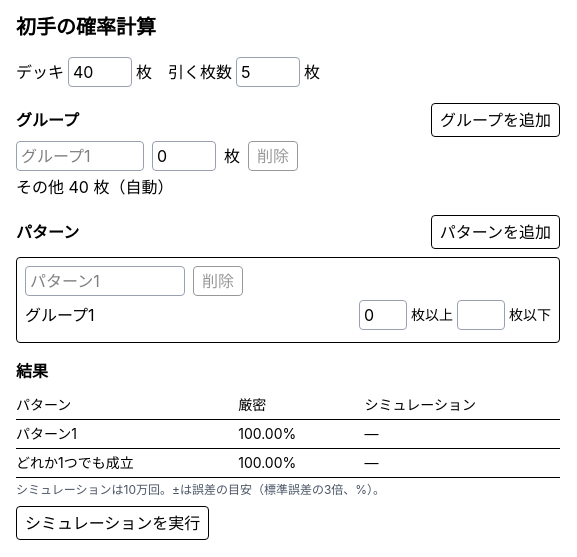
Scenario: 最大を入力してから空にすると、誤りが消えて上限なしに戻る（input イベント）
Type "-1" into the number field named "パターン1：グループ1の最大".
click(481, 315); type("-1")  # box [457, 300, 505, 330]
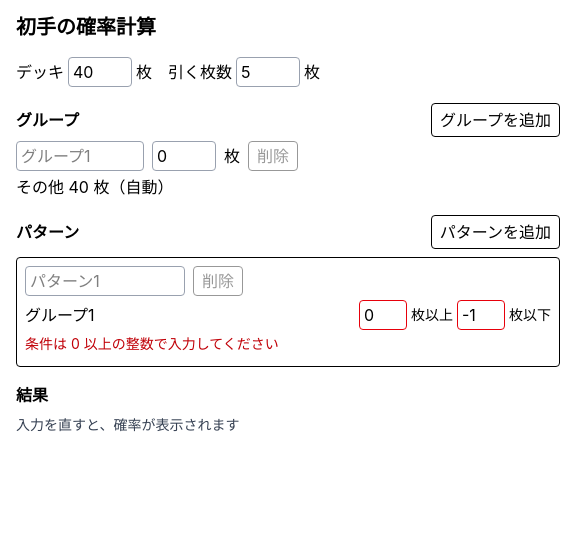
Now the message reads "条件は 0 以上の整数で入力してください", box [25, 335, 279, 352]
Clear the number field named "パターン1：グループ1の最大" at [481, 315], box [457, 300, 505, 330]
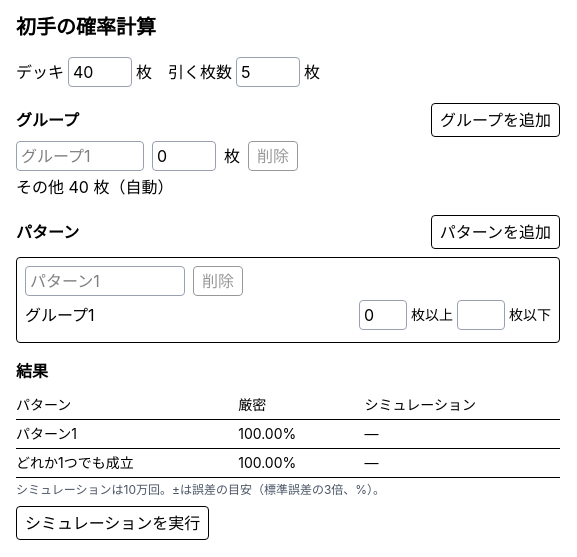
Now the message "条件は 0 以上の整数で入力してください" is gone
